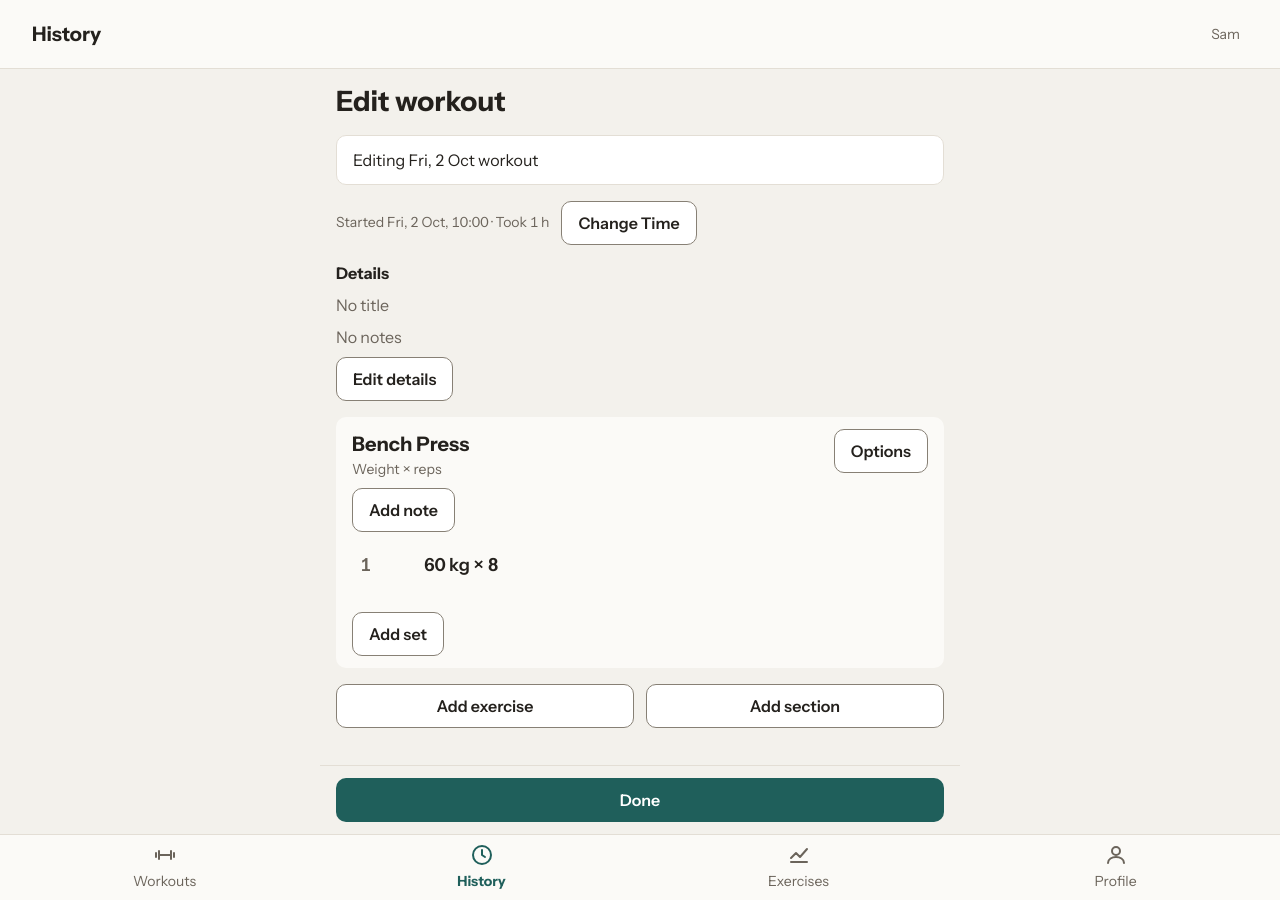
Scenario: 18.0 AC18 — 409 workout-would-be-empty opens the dialog › the server is asked (no pre-check); the dialog shows the pinned copy with focus on Keep it
Check: the heading "Edit workout" is shown, box x1=336 y1=84 x2=506 y2=118
Click the button "1 60 kg × 8".
click(461, 565)  # box x1=352 y1=544 x2=928 y2=588
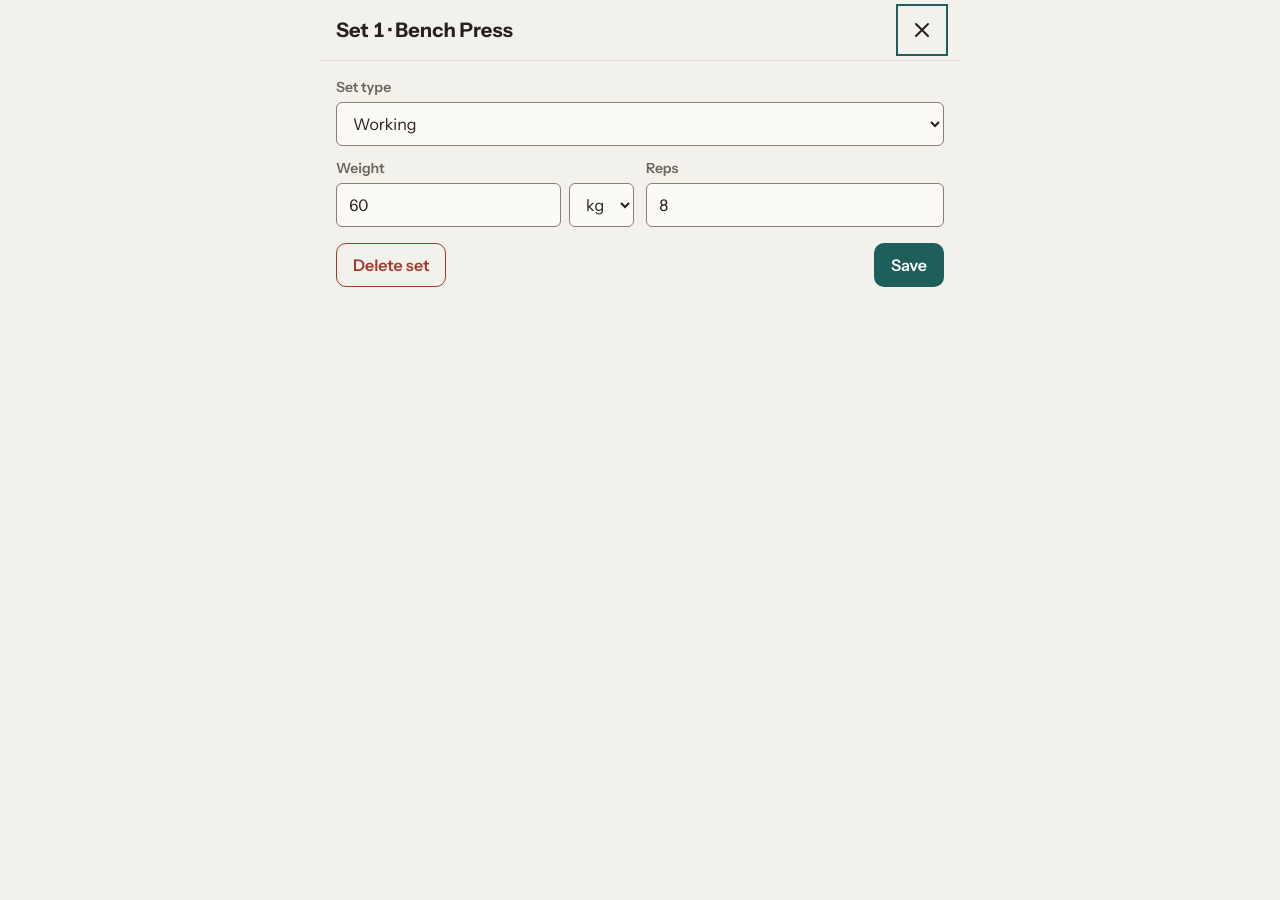
Click the button "Delete set".
click(391, 265)  # box x1=336 y1=243 x2=446 y2=287
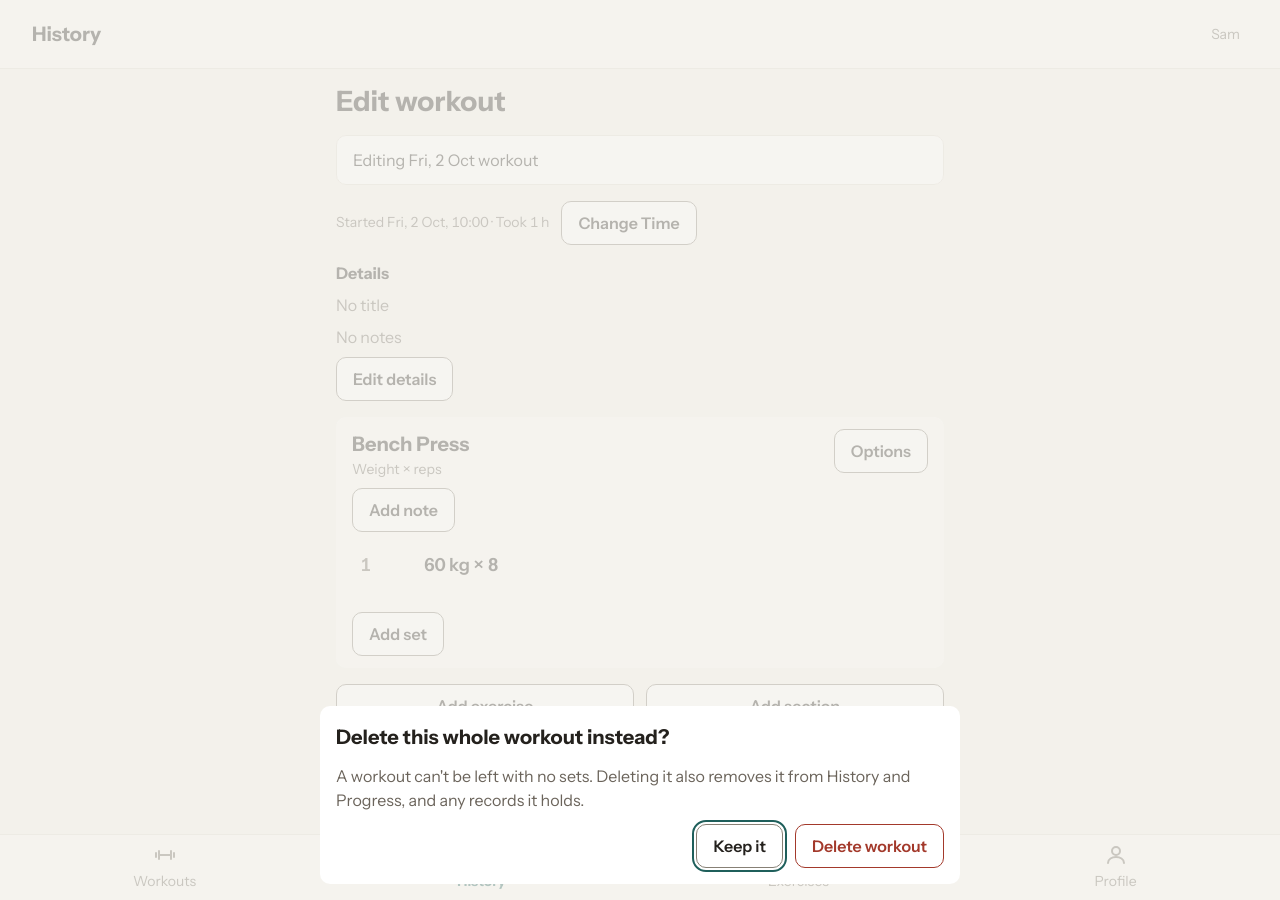
Check: the dialog "Delete this whole workout instead?" is shown, box x1=320 y1=706 x2=960 y2=884
Check: the heading "Set 1" is gone
Check: the dialog "Delete this whole workout instead?" shows "A workout can't be left with no sets. Deleting it also removes it from History and Progress, and any records it holds.", box x1=336 y1=766 x2=910 y2=810
